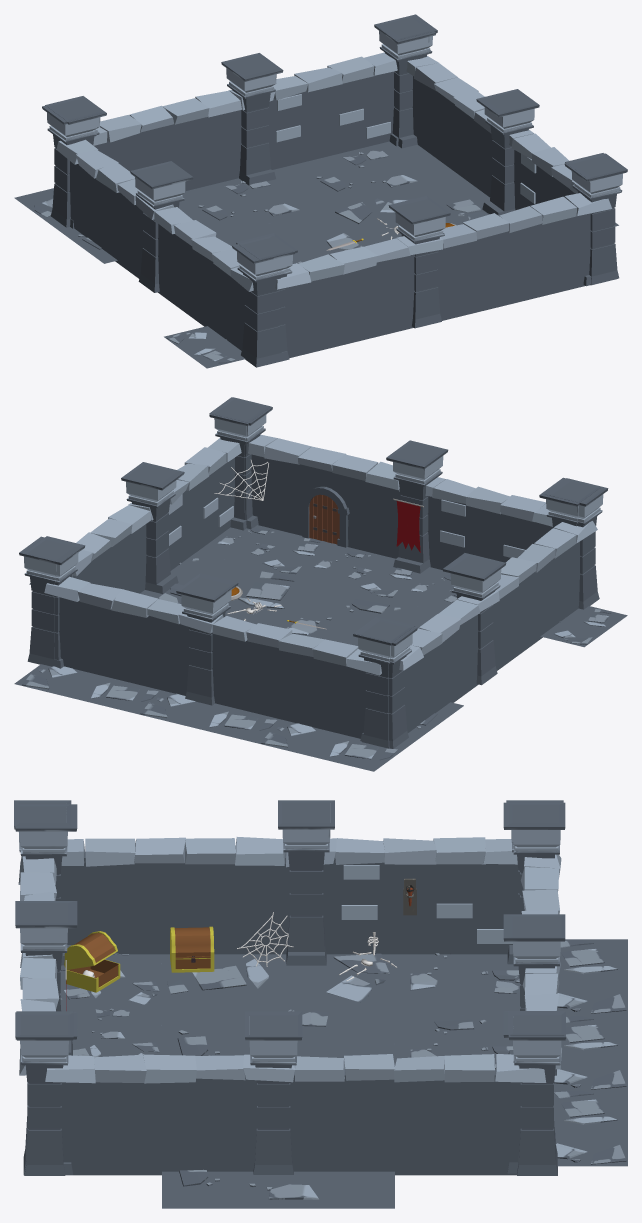
File: Room1.fbx
3 views of the same model, one above another, from view 1: azimuth 30°, elevation 25°; view 2: azimuth 150°, elevation 25°; view 3: azimuth 270°, elevation 25° (orthographic). The views are drawn at different scales.
Visible parts, largest first — view 1: Cube.010, Plane.006, Plane.007, Plane.005, Plane.004, Plane.003, Plane.008; view 2: Cube.010, Plane.005, Plane.004, Plane.008, Plane, Plane.001, Plane.007, Plane.006, Cube.005, Plane.003, Plane.002, Cube; view 3: Cube.010, Plane.004, Plane.008, Plane.007, Plane.005, Plane.006, Plane.002, Plane.003, Plane.027, Plane.037, Plane.001, Plane.032 (+2 smaller).
Boxes of the visible parts, x1,y1,x2,y2 form: Cube.010: (42, 14, 627, 367); Plane.006: (288, 141, 460, 205); Plane.007: (180, 166, 341, 233); Plane.005: (328, 177, 618, 243); Plane.004: (216, 209, 375, 263); Plane.003: (164, 326, 245, 368); Plane.008: (14, 188, 224, 263); Cube.010: (19, 397, 608, 748); Plane.005: (140, 552, 328, 625); Plane.004: (273, 585, 439, 645); Plane.008: (254, 702, 463, 771); Plane: (196, 525, 336, 576); Plane.001: (294, 545, 432, 599); Plane.007: (132, 690, 282, 742); Plane.006: (14, 664, 162, 712); Cube.005: (302, 486, 349, 547); Plane.003: (540, 606, 627, 647); Plane.002: (390, 568, 457, 611); Cube: (393, 498, 423, 552); Cube.010: (14, 800, 565, 1175); Plane.004: (162, 953, 394, 1068); Plane.008: (394, 939, 627, 1015); Plane.007: (394, 1015, 627, 1089); Plane.005: (162, 1169, 394, 1208); Plane.006: (554, 1090, 627, 1166); Plane.002: (60, 981, 161, 1042); Plane.003: (60, 953, 161, 981); Plane.027: (170, 926, 214, 958); Plane.037: (64, 931, 117, 969); Plane.001: (72, 1042, 161, 1057); Plane.032: (66, 959, 120, 992).
Bounding box in the file's own units: 9993 × 2339 × 8991.
24 materials, 18 textured.
